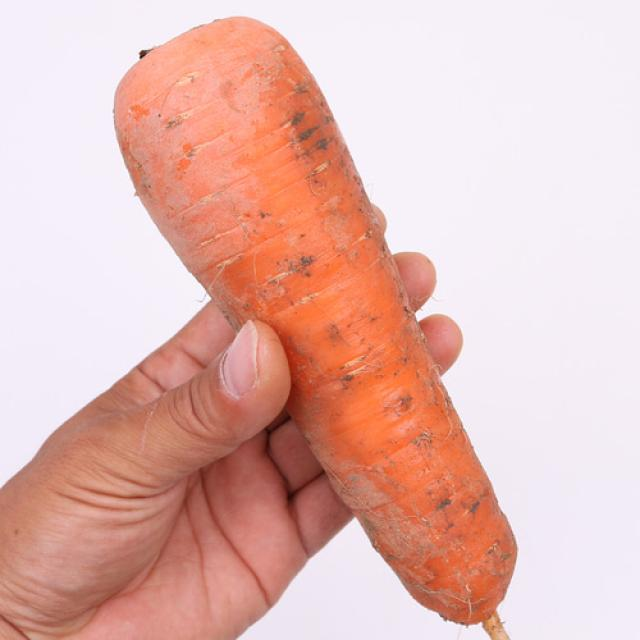carrot: (114, 14, 526, 640)
